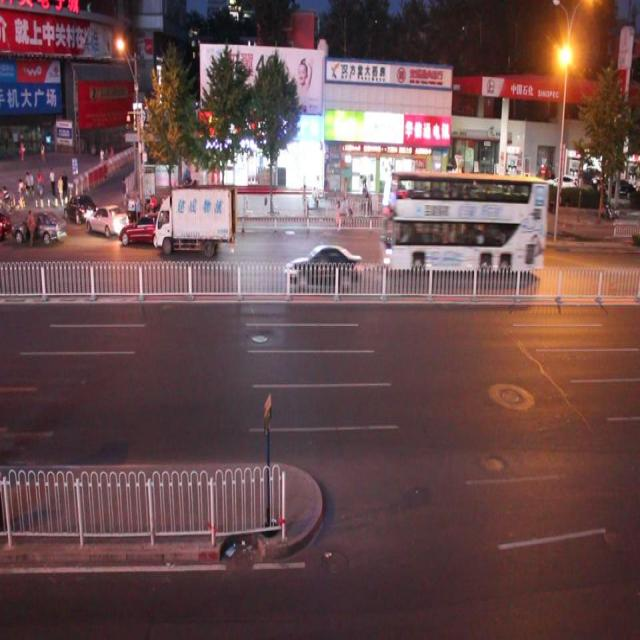bus: (153, 184, 240, 259)
car: (284, 240, 362, 291), (120, 210, 182, 251), (13, 204, 69, 248), (86, 200, 129, 242), (64, 190, 97, 225)
van: (381, 170, 547, 278)
